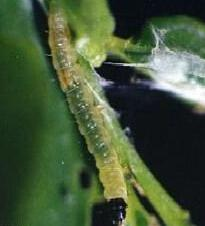pest: (46, 1, 131, 222)
